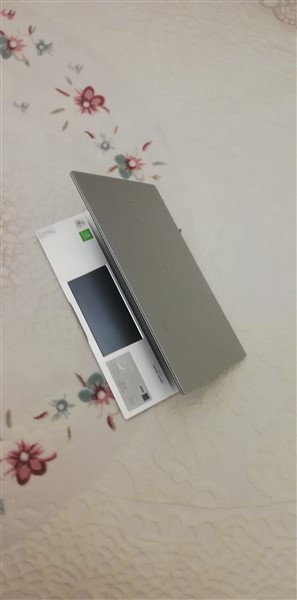laptop: (28, 171, 253, 419)
